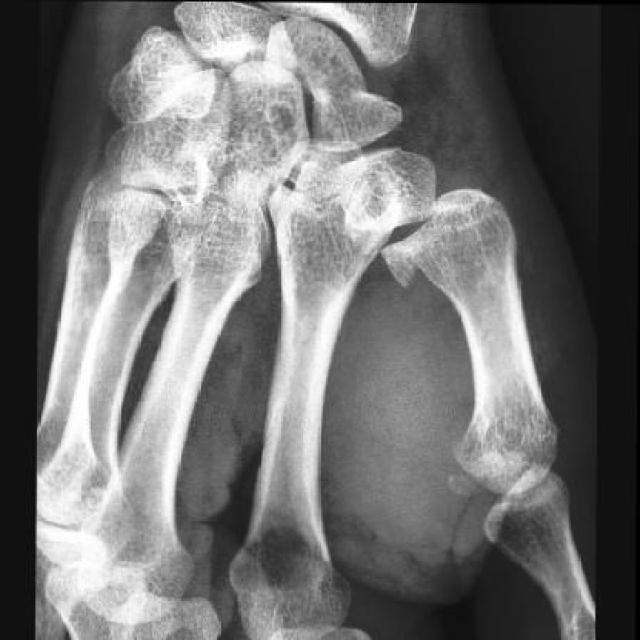Fracture: (379, 200, 461, 302)
